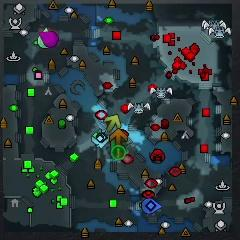Other: (111, 145, 126, 160)
p1: (142, 198, 163, 213)
p2: (37, 28, 49, 50)
p3: (38, 31, 59, 47)
x2: (105, 115, 121, 131)
x3: (91, 130, 109, 149)
x4: (108, 138, 120, 155)
x5: (109, 130, 129, 146)
